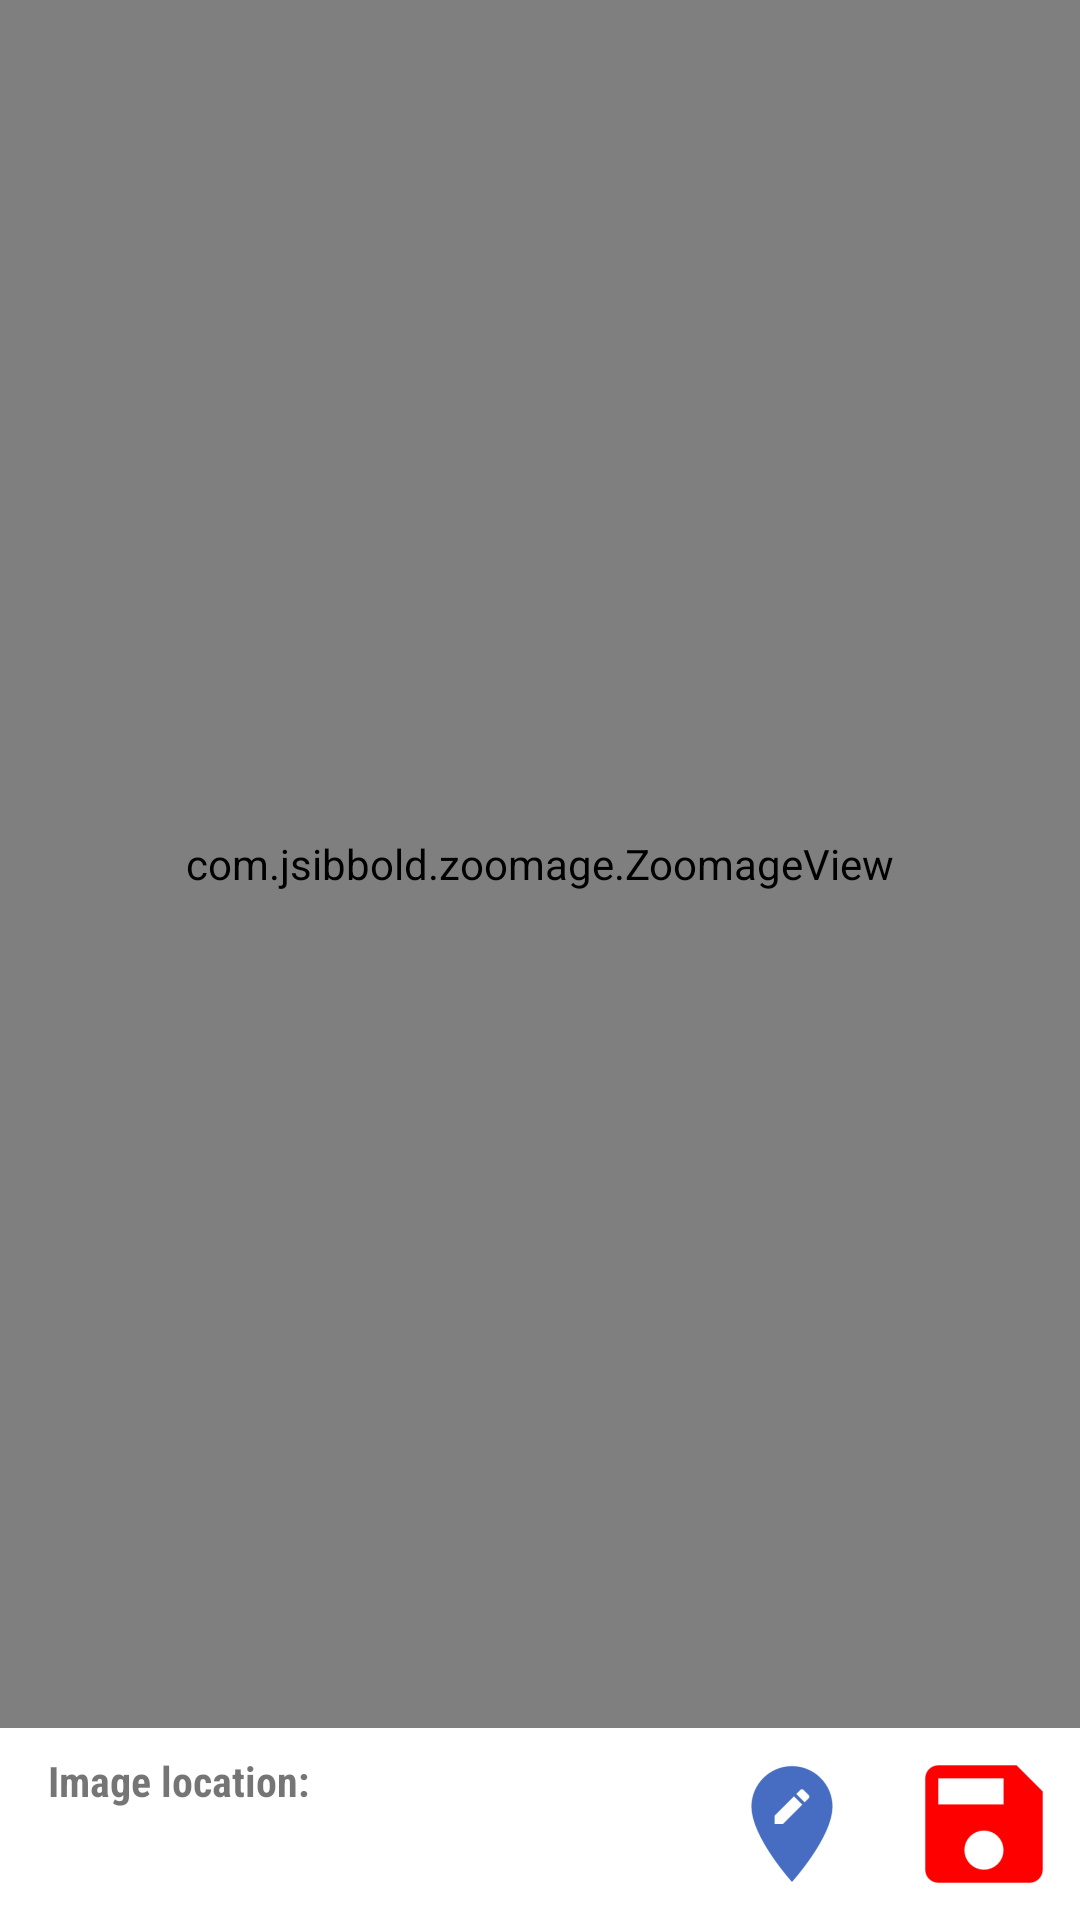

Icon click points for this 1080x1920 phone screenshot, format [x,y]:
edit location: [792,1824]
save: [984,1824]
